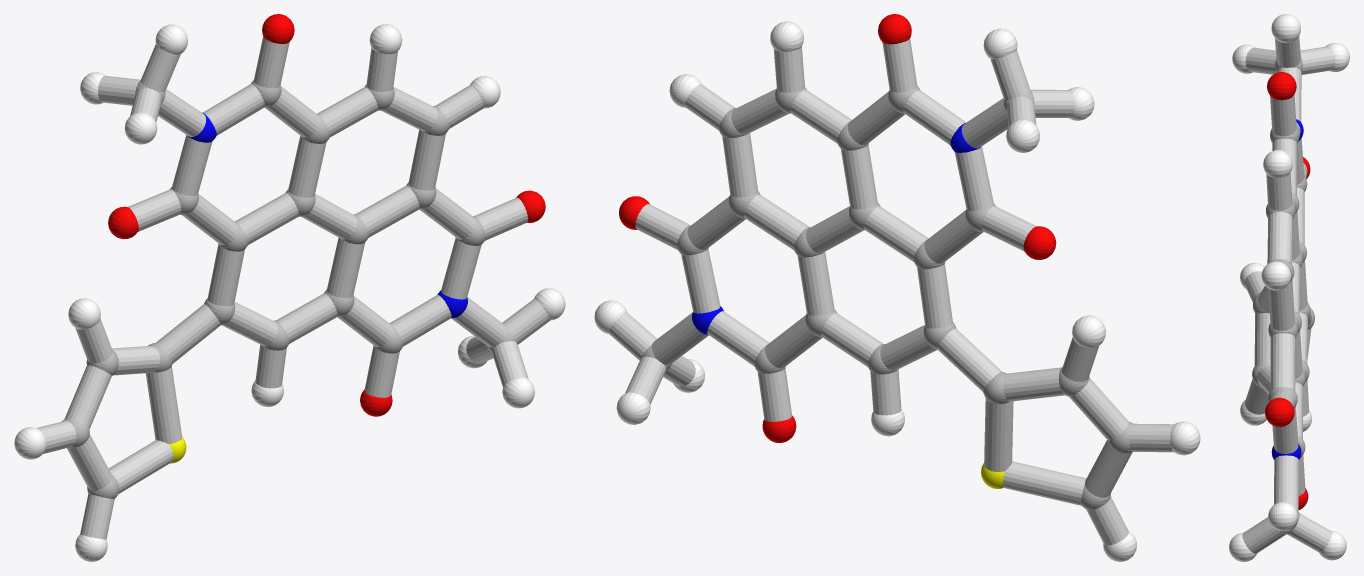
The model's file is Dimethyl_Naphthalene_Dicarboximide_Phi_20_Theta_0_Thiophene.glb.
3 views of the same model, side by side, from view 1: azimuth 30°, elevation 25°; view 2: azimuth 150°, elevation 25°; view 3: azimuth 270°, elevation 25° (orthographic). The views are drawn at different scales.
Visible parts, largest first — view 1: grp14119, grp7241, grp1, grp12309, grp11585; view 2: grp14119, grp7241, grp1, grp12309, grp11585; view 3: grp14119, grp7241, grp1, grp12309, grp11585.
Boxes of the visible parts, x1,y1,x2,y2 form: grp14119: (36, 36, 550, 539); grp7241: (14, 24, 565, 561); grp1: (62, 80, 515, 498); grp12309: (108, 14, 545, 416); grp11585: (188, 112, 467, 318); grp14119: (608, 38, 1173, 545); grp7241: (594, 21, 1200, 561); grp1: (641, 86, 1132, 510); grp12309: (619, 14, 1056, 442); grp11585: (692, 123, 980, 334); grp14119: (1242, 36, 1334, 553); grp7241: (1229, 14, 1349, 561); grp1: (1252, 57, 1314, 534); grp12309: (1265, 72, 1310, 509); grp11585: (1271, 119, 1303, 459).
Size of the model in its own units: 11.95 by 10.11 by 2.45.
